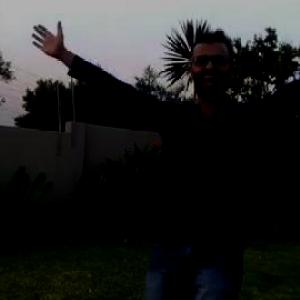takeoff: (47, 27, 299, 299)
